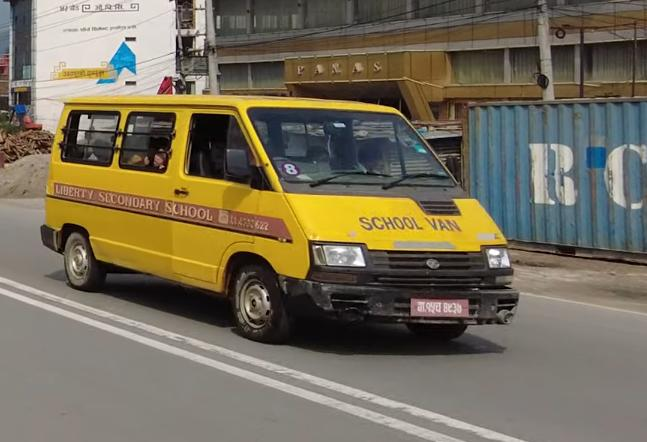school_bus: (39, 89, 524, 351)
